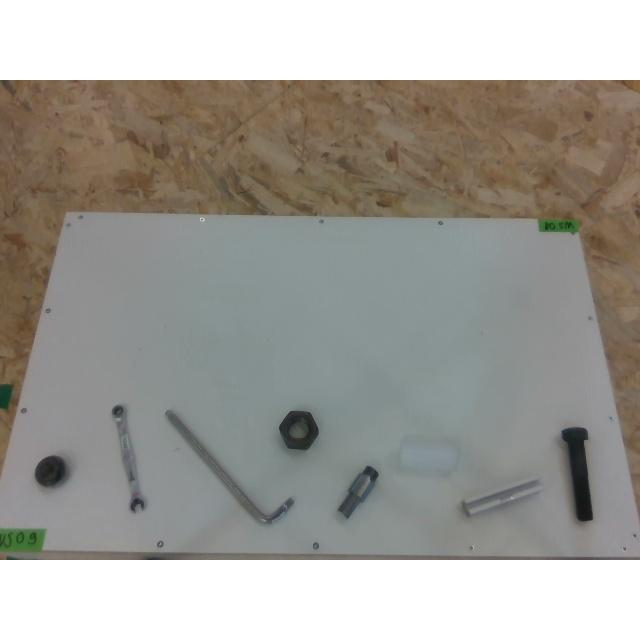AllenKey: (166, 410, 294, 524)
Axis2: (338, 466, 378, 518)
Bearing2: (34, 455, 68, 487)
F20_20_G: (462, 477, 542, 515)
M20_100: (560, 427, 592, 521)
M30: (278, 410, 318, 450)
Spacer: (398, 436, 458, 474)
Wrench: (110, 404, 146, 512)
